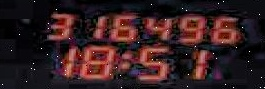1: (184, 46, 211, 79), (57, 45, 73, 76), (89, 12, 104, 40)
3: (46, 11, 73, 38)
4: (144, 15, 171, 39)
5: (135, 45, 169, 80)
6: (109, 12, 138, 40), (211, 15, 236, 41)
8: (77, 44, 111, 79)
9: (176, 14, 205, 41)
X: (117, 50, 131, 71)
